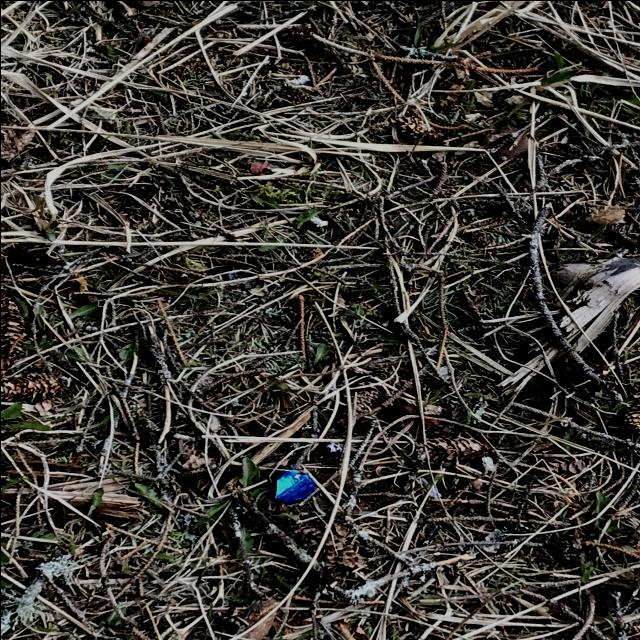Other plastic: (272, 468, 314, 504)
